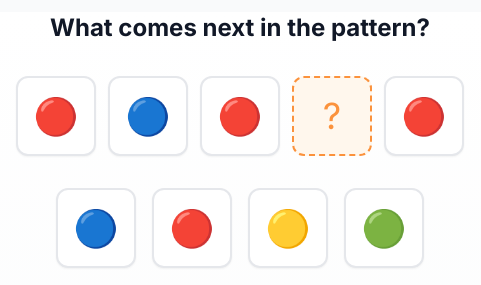
Test: PatternPuzzle › disables all buttons after selection
The width and height of the screenshot is (481, 285).
Click the button "🔵" at (96, 228), box [56,188,136,268]
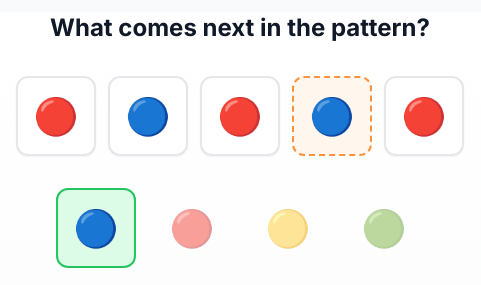
Result: the button "🔵" is disabled at [56,188,136,268]
Result: the button "🔴" is disabled at [152,188,232,268]
Result: the button "🟡" is disabled at [248,188,328,268]
